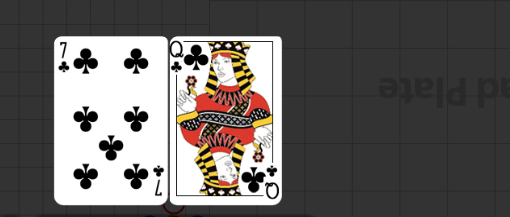7C: (151, 163, 166, 198)
QC: (171, 36, 215, 83), (238, 157, 282, 203)
